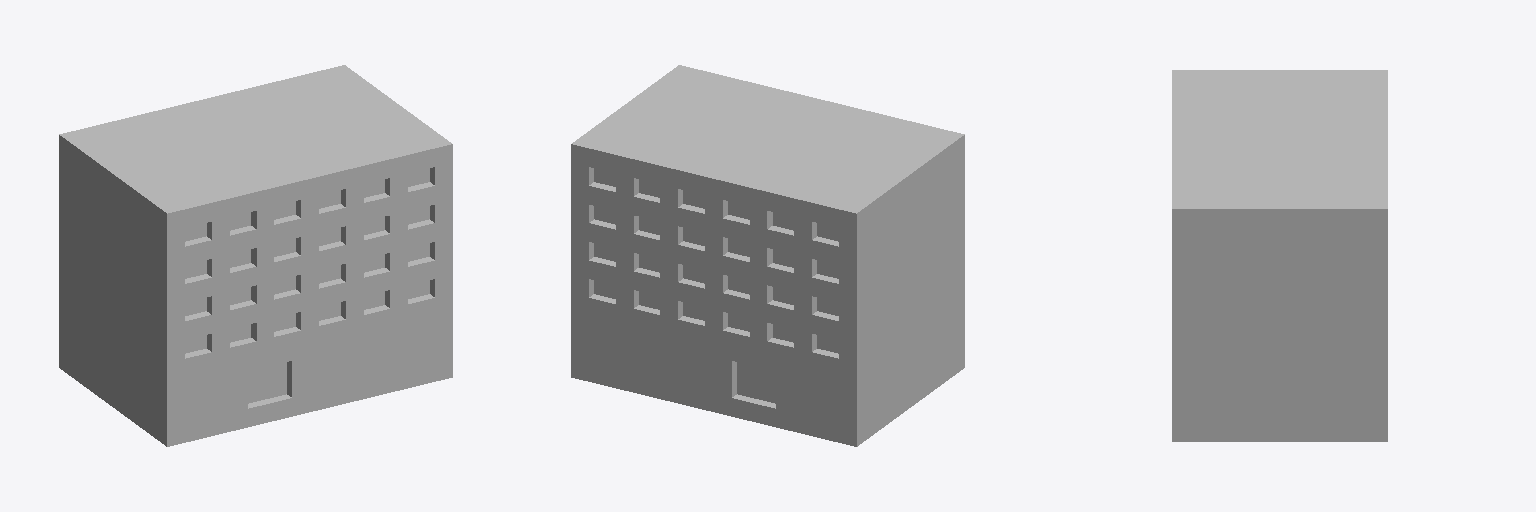
The model's file is building13.obj.
3 views of the same model, side by side, from view 1: azimuth 30°, elevation 25°; view 2: azimuth 150°, elevation 25°; view 3: azimuth 270°, elevation 25° (orthographic).
Parts seen in each view (by area): view 1: building13; view 2: building13; view 3: building13.
Boxes of the visible parts, x1=… form: building13: x1=59, y1=65, x2=452, y2=446; building13: x1=571, y1=65, x2=964, y2=446; building13: x1=1172, y1=70, x2=1387, y2=441.
Bounding box in the file's own units: 32 × 25 × 21.